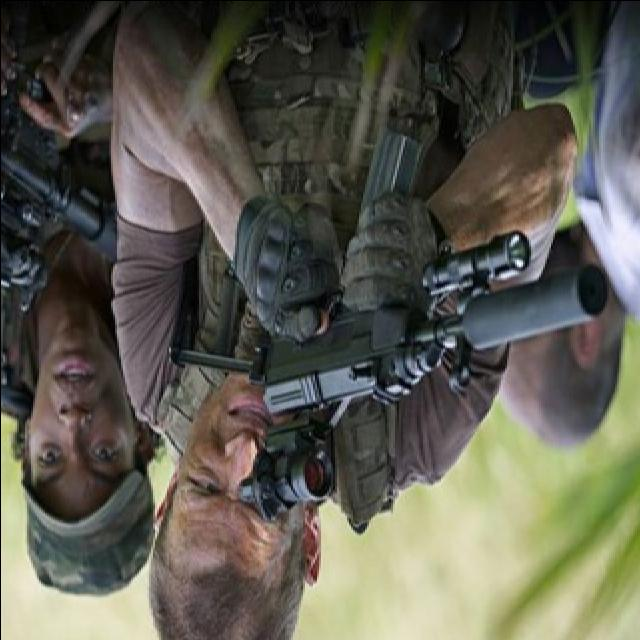rifle: (215, 142, 613, 529)
